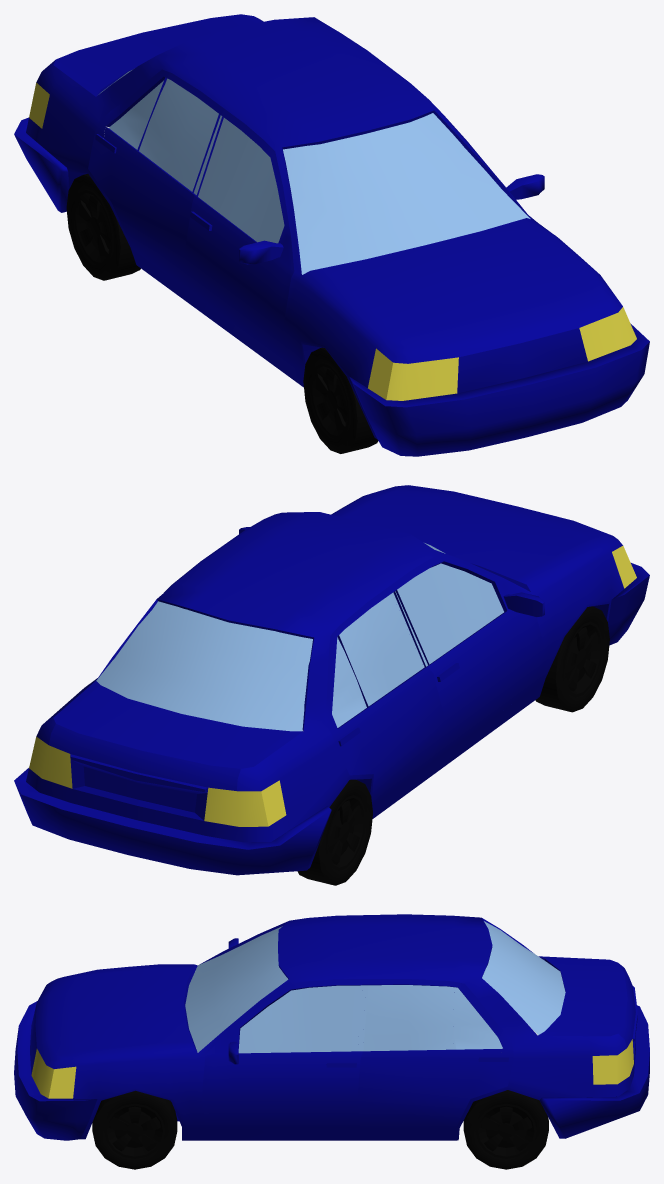
The model's file is car3.glb.
The picture shows the model from 3 angles, top to bottom: view 1: azimuth 30°, elevation 25°; view 2: azimuth 150°, elevation 25°; view 3: azimuth 270°, elevation 25°; orthographic projection. The views are drawn at different scales.
Visible parts, largest first — view 1: Cube.022, window, window.002, window.001, wheel.003, wheel.002; view 2: Cube.022, window, window.002, window.001, wheel.003, wheel.002; view 3: Cube.022, window, window.002, window.001, wheel.001, wheel.
Boxes of the visible parts, <box> form: Cube.022: <box>14,14,649,456</box>; window: <box>98,70,530,274</box>; window.002: <box>109,78,222,194</box>; window.001: <box>198,118,284,243</box>; wheel.003: <box>303,347,378,453</box>; wheel.002: <box>66,173,140,280</box>; Cube.022: <box>14,485,649,875</box>; window: <box>96,543,445,731</box>; window.002: <box>332,593,423,727</box>; window.001: <box>392,563,503,667</box>; wheel.003: <box>535,606,609,712</box>; wheel.002: <box>297,779,372,885</box>; Cube.022: <box>14,914,649,1140</box>; window: <box>185,921,565,1052</box>; window.002: <box>363,985,502,1051</box>; window.001: <box>238,985,368,1053</box>; wheel.001: <box>92,1090,177,1169</box>; wheel: <box>463,1090,548,1169</box>.
Bounding box in the file's own units: 1.92 × 1.38 × 4.43.
